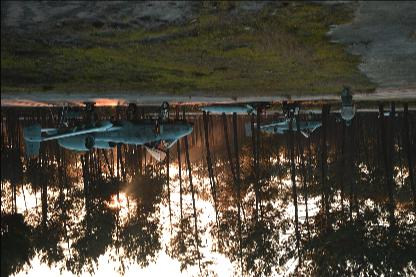A10: (22, 102, 194, 161), (244, 112, 322, 138)
